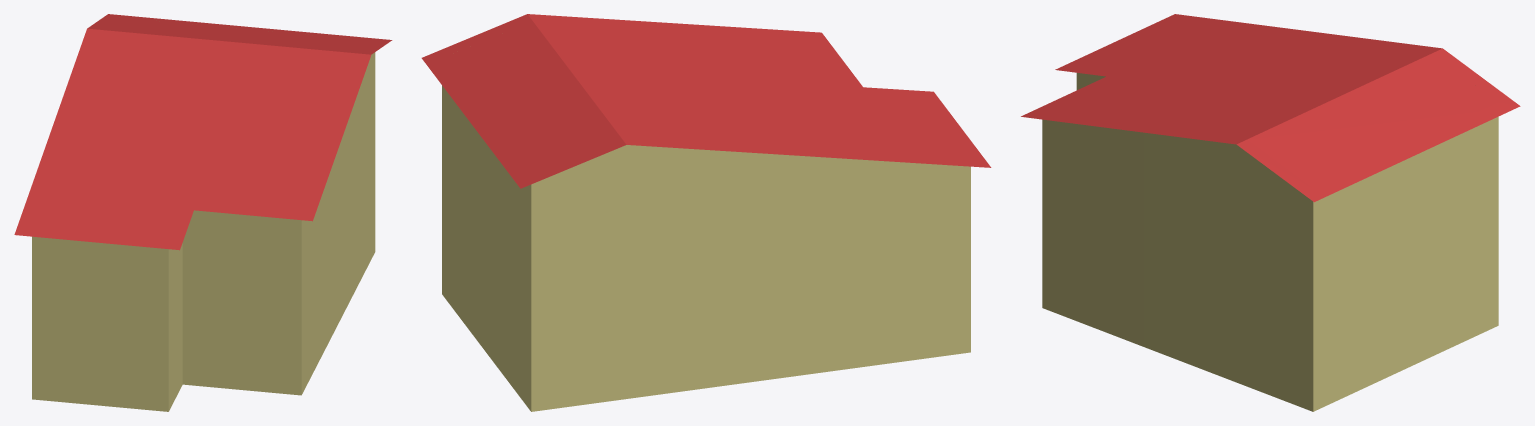
3 renders of one model, left to right at view 1: azimuth 30°, elevation 25°; view 2: azimuth 150°, elevation 25°; view 3: azimuth 270°, elevation 25°, orthographic. The views are drawn at different scales.
Bounding box in the file's own units: 17.46 × 16.14 × 8.79.
